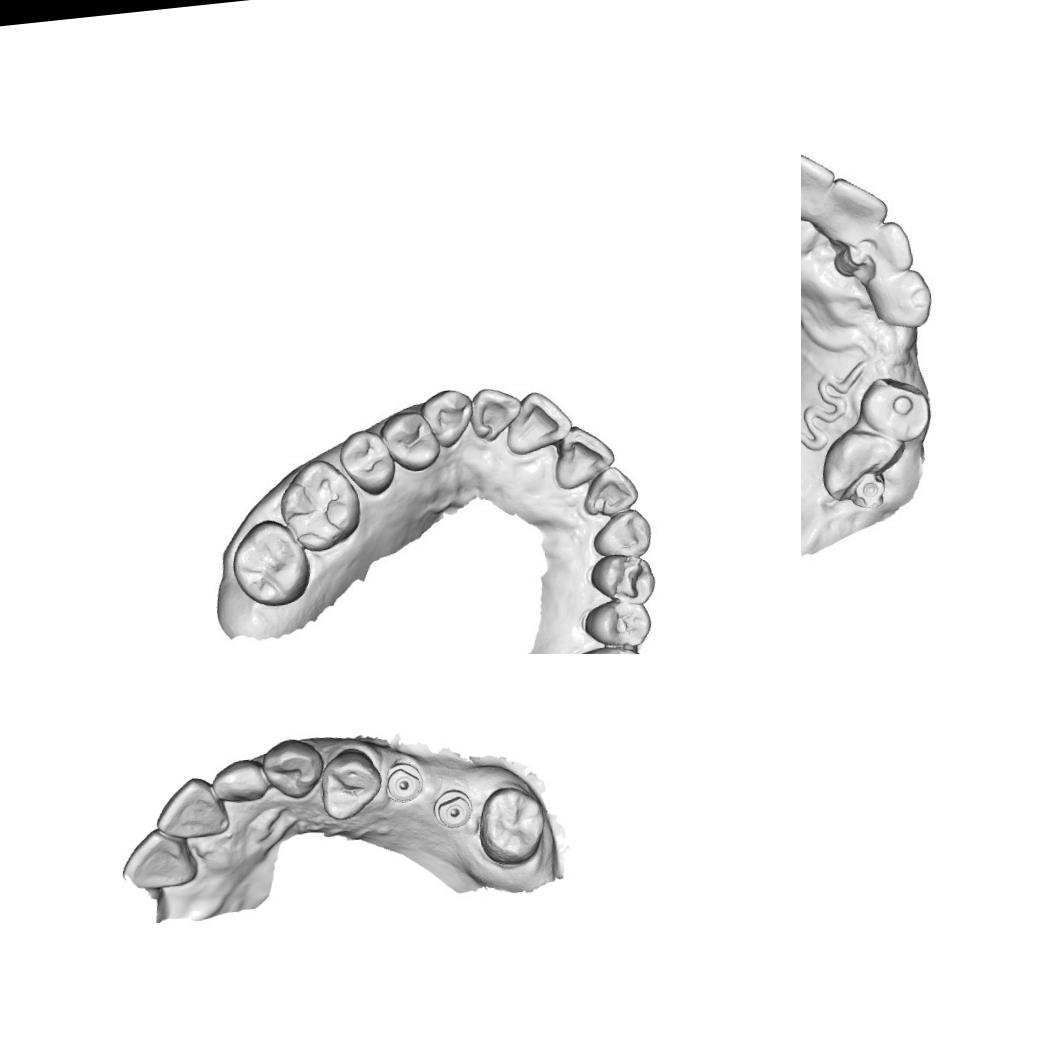canine: (257, 732, 328, 808), (418, 384, 481, 454), (864, 268, 931, 332), (588, 505, 656, 562)
implant: (380, 759, 428, 806), (431, 785, 475, 833)
incisor: (116, 824, 202, 894), (150, 772, 231, 844), (546, 421, 618, 492), (502, 390, 577, 457), (816, 178, 882, 244), (578, 462, 644, 520), (208, 754, 270, 809), (470, 382, 525, 441), (801, 145, 838, 225), (861, 223, 912, 273)
inlay: (606, 557, 648, 604)
molar: (273, 454, 361, 554), (225, 516, 314, 612), (473, 780, 552, 870), (858, 370, 933, 443)
premolar: (314, 742, 387, 823), (337, 428, 398, 502), (380, 404, 440, 478), (581, 596, 656, 652)
